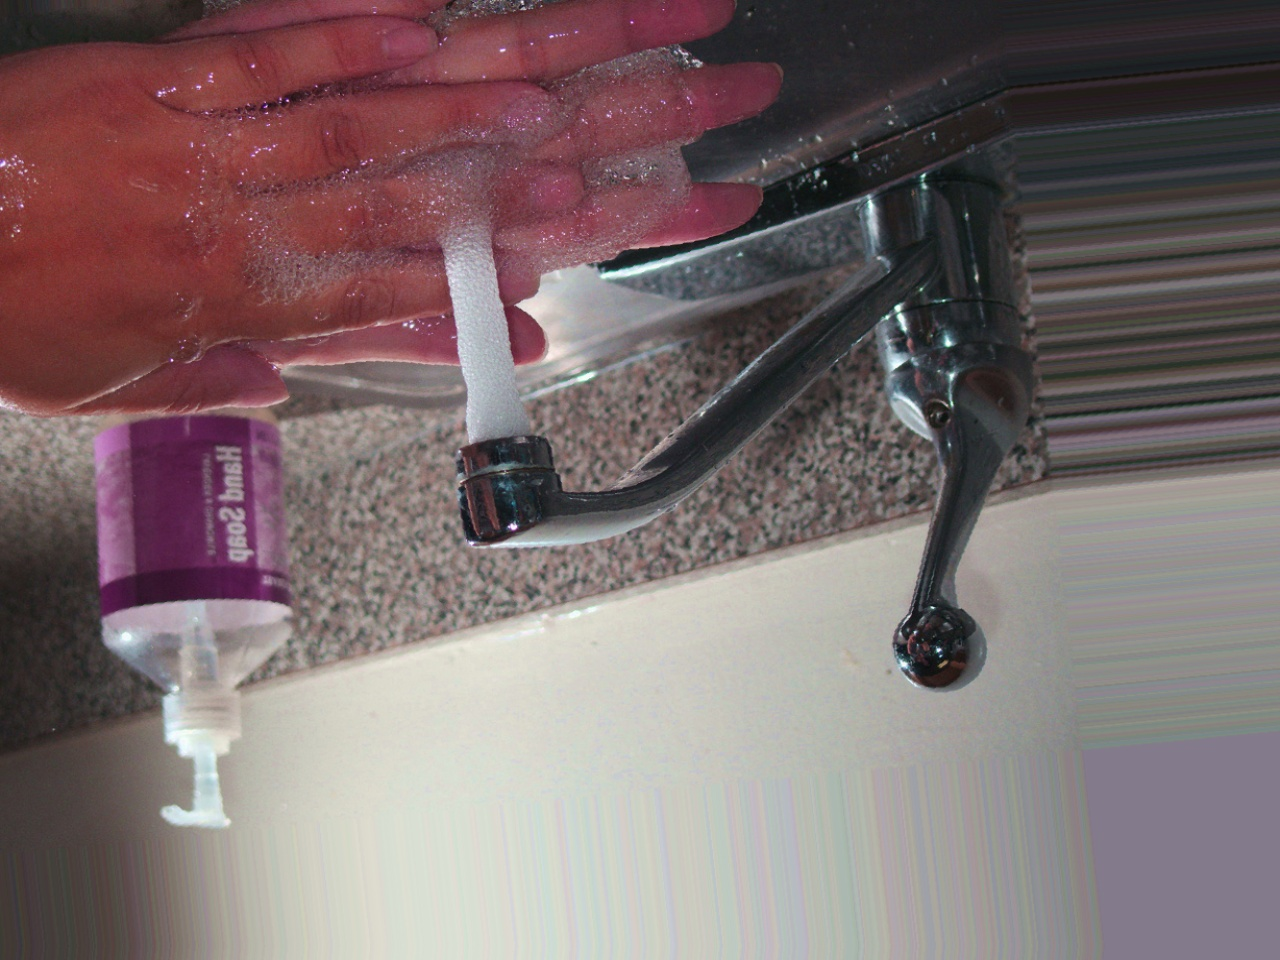washing hand: (0, 0, 891, 627)
